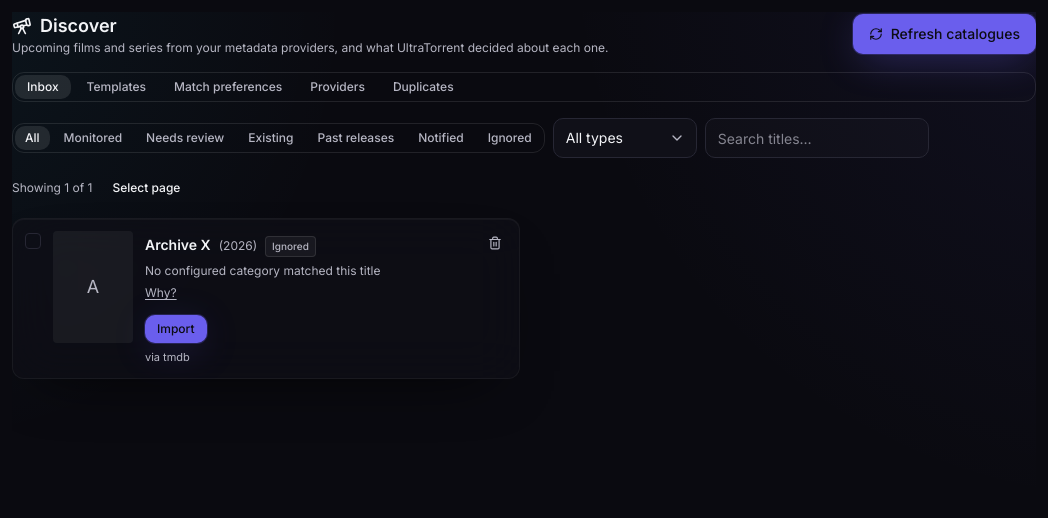
Test: an ignore explains itself well enough to tune a template › names the template and what each gate actually saw
This screenshot has width=1048, height=518.
Click the button "Why?".
click(161, 293)  # box [145, 285, 177, 301]
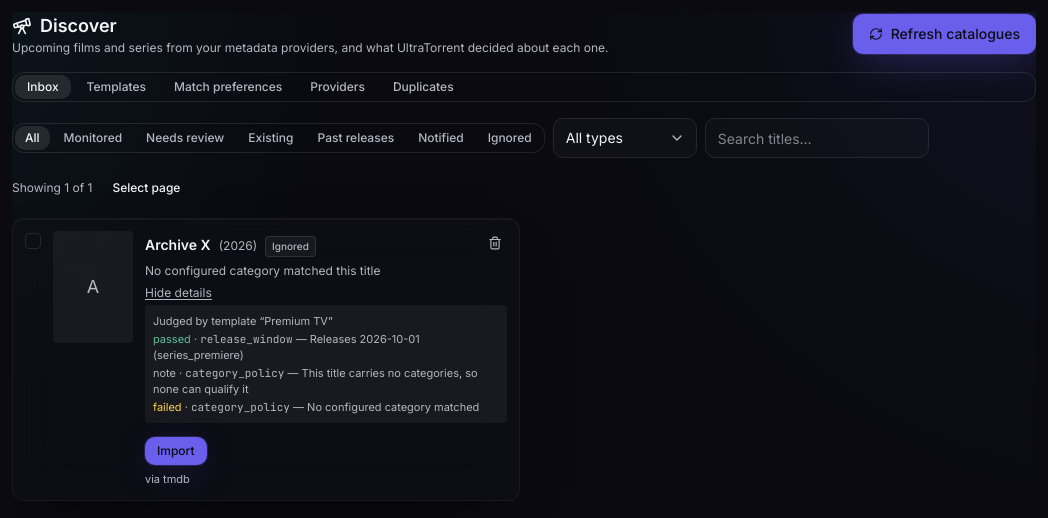
Now the text "Judged by template “Premium TV”" is shown, box [153, 314, 333, 328]
Now the text "carries no categories" is shown, box [153, 366, 478, 396]
